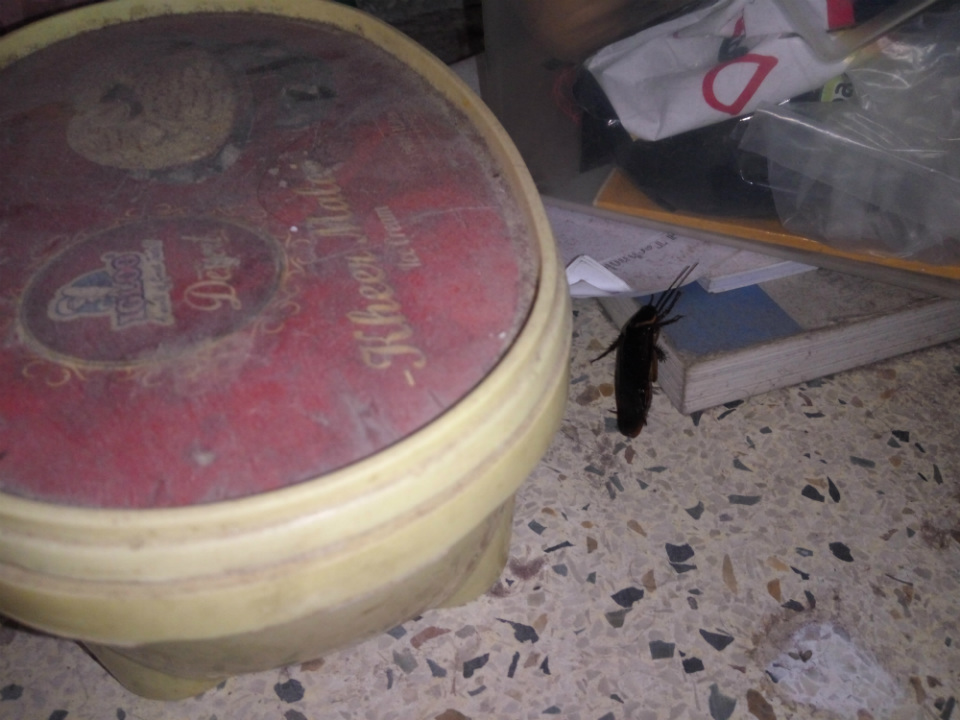cockroach: (605, 267, 710, 460)
